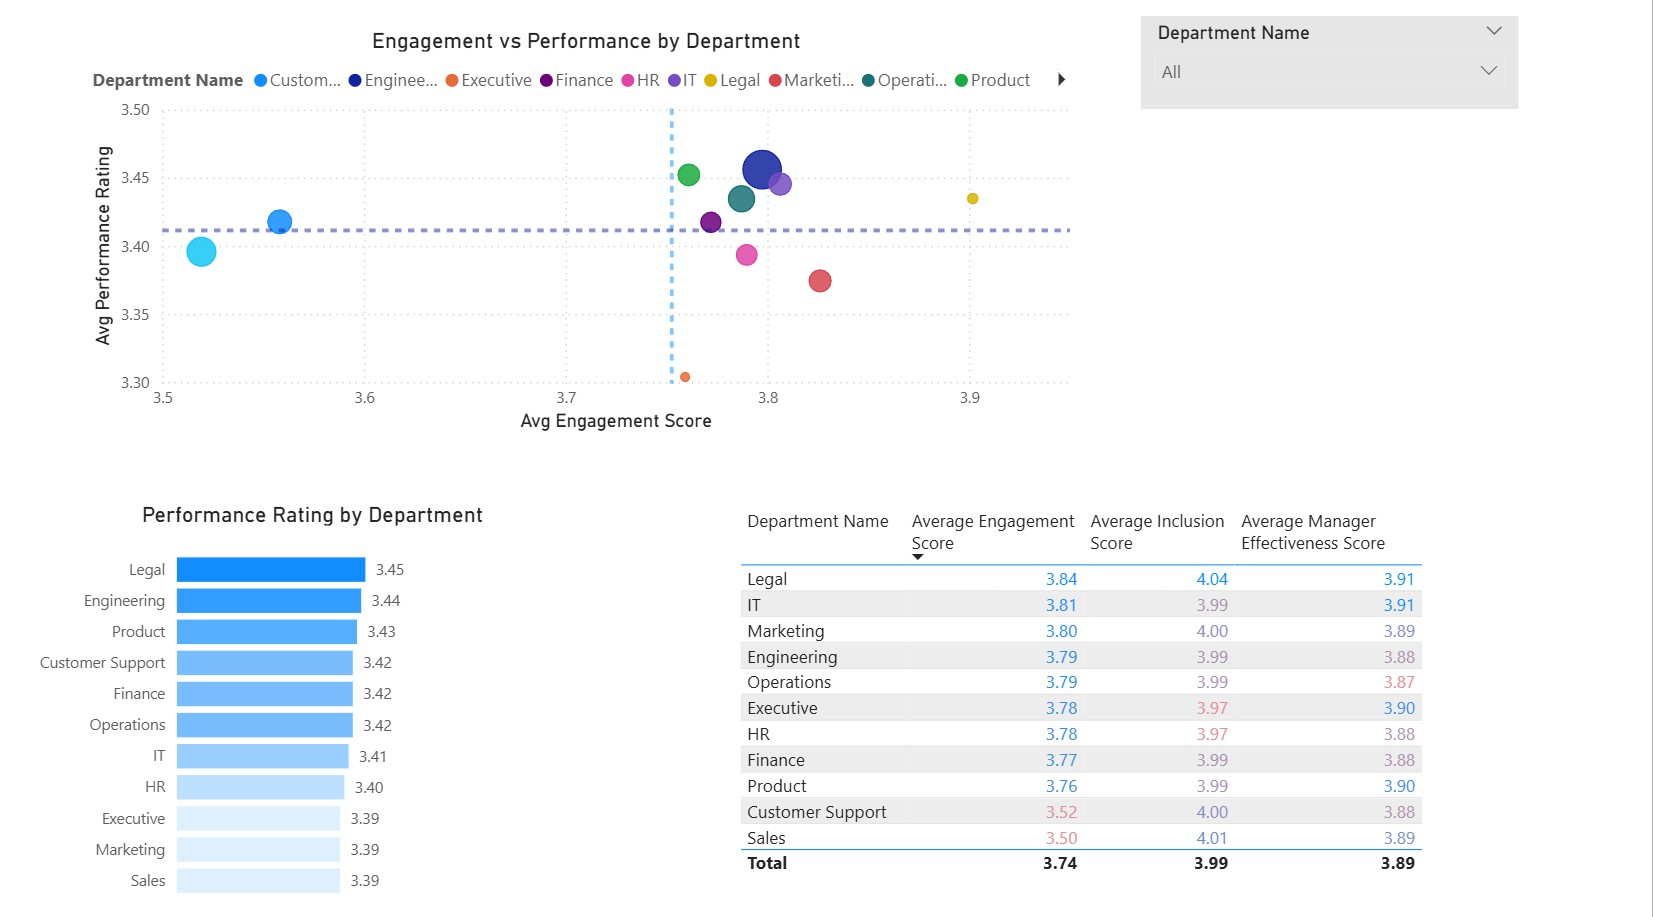

Layout of this report page (visuals, bound fields, positions):
{"tool":"powerbi","page":{"name":"Performance & Engagement","canvas":[1280,720],"ordinal":1},"visuals":[{"type":"clusteredBarChart","title":"Performance Rating by Department","fields":{"Category":["people_analytics vw_performance_by_department.departmentname"],"Y":["Avg(people_analytics vw_performance_by_department.avg_performance_rating)"]},"box":[20,391,448,318],"z":0},{"type":"tableEx","fields":{"Values":["people_analytics vw_engagement_by_department.departmentname","Avg(people_analytics vw_engagement_by_department.avg_engagement_score)","Avg(people_analytics vw_engagement_by_department.avg_inclusion_score)","Avg(people_analytics vw_engagement_by_department.avg_manager_effectiveness_score)"]},"box":[569,391,570,318],"z":1000},{"type":"scatterChart","title":"Engagement vs Performance by Department","fields":{"Y":["Avg(people_analytics vw_engagement_vs_performance.performancerating)"],"X":["Avg(people_analytics vw_engagement_vs_performance.engagementscore)"],"Series":["people_analytics vw_engagement_vs_performance.departmentname"],"Size":["CountNonNull(people_analytics vw_engagement_vs_performance.employeeid)"]},"box":[69,25,774,318],"z":2000},{"type":"slicer","fields":{"Values":["people_analytics vw_current_headcount_by_department.departmentname"]},"box":[885,16,292,72],"z":2001}]}

Visuals, with their boxes in screenshot pixels (x1, y1, x2, y2), scaled from the page's 1280x720 canvas onto the 1653x917 screenshot:
"Performance Rating by Department" clusteredBarChart: detection(26, 498, 604, 903)
tableEx - people_analytics vw_engagement_by_department.departmentname x Avg(people_analytics vw_engagement_by_department.avg_engagement_score): detection(735, 498, 1471, 903)
"Engagement vs Performance by Department" scatterChart: detection(89, 32, 1089, 437)
slicer - people_analytics vw_current_headcount_by_department.departmentname: detection(1143, 20, 1520, 112)
